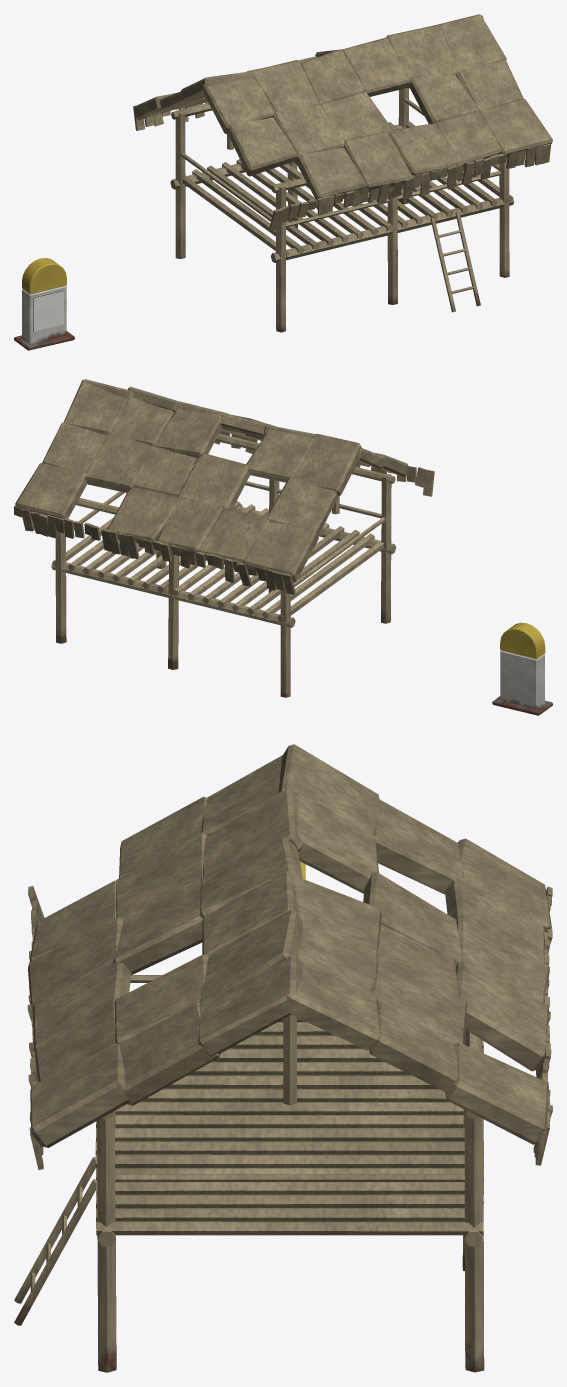
Rendered from RoadsideProps.fbx.
The picture shows the model from 3 angles, top to bottom: view 1: azimuth 30°, elevation 25°; view 2: azimuth 150°, elevation 25°; view 3: azimuth 270°, elevation 25°; orthographic projection. The views are drawn at different scales.
Parts seen in each view (by area): view 1: DistantRiceHut, KilometerMilestone; view 2: DistantRiceHut, KilometerMilestone; view 3: DistantRiceHut.
Part boxes in pixels (x1=…): DistantRiceHut: x1=133, y1=14, x2=552, y2=332; KilometerMilestone: x1=14, y1=258, x2=74, y2=350; DistantRiceHut: x1=14, y1=379, x2=434, y2=697; KilometerMilestone: x1=492, y1=622, x2=552, y2=715; DistantRiceHut: x1=14, y1=744, x2=552, y2=1372.
Bounding box in the file's own units: 522 × 240 × 288.
Materials: 2 (2 with a texture image).
